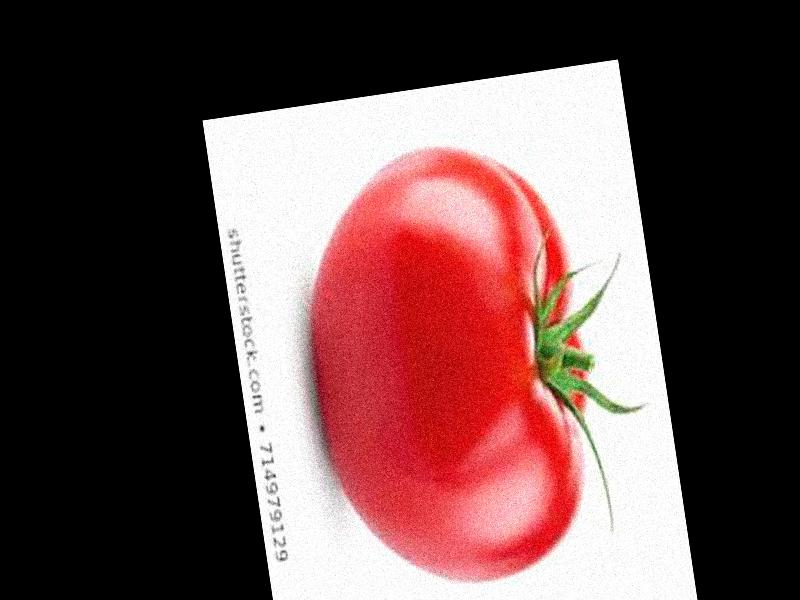Tomato: (287, 129, 610, 600)
